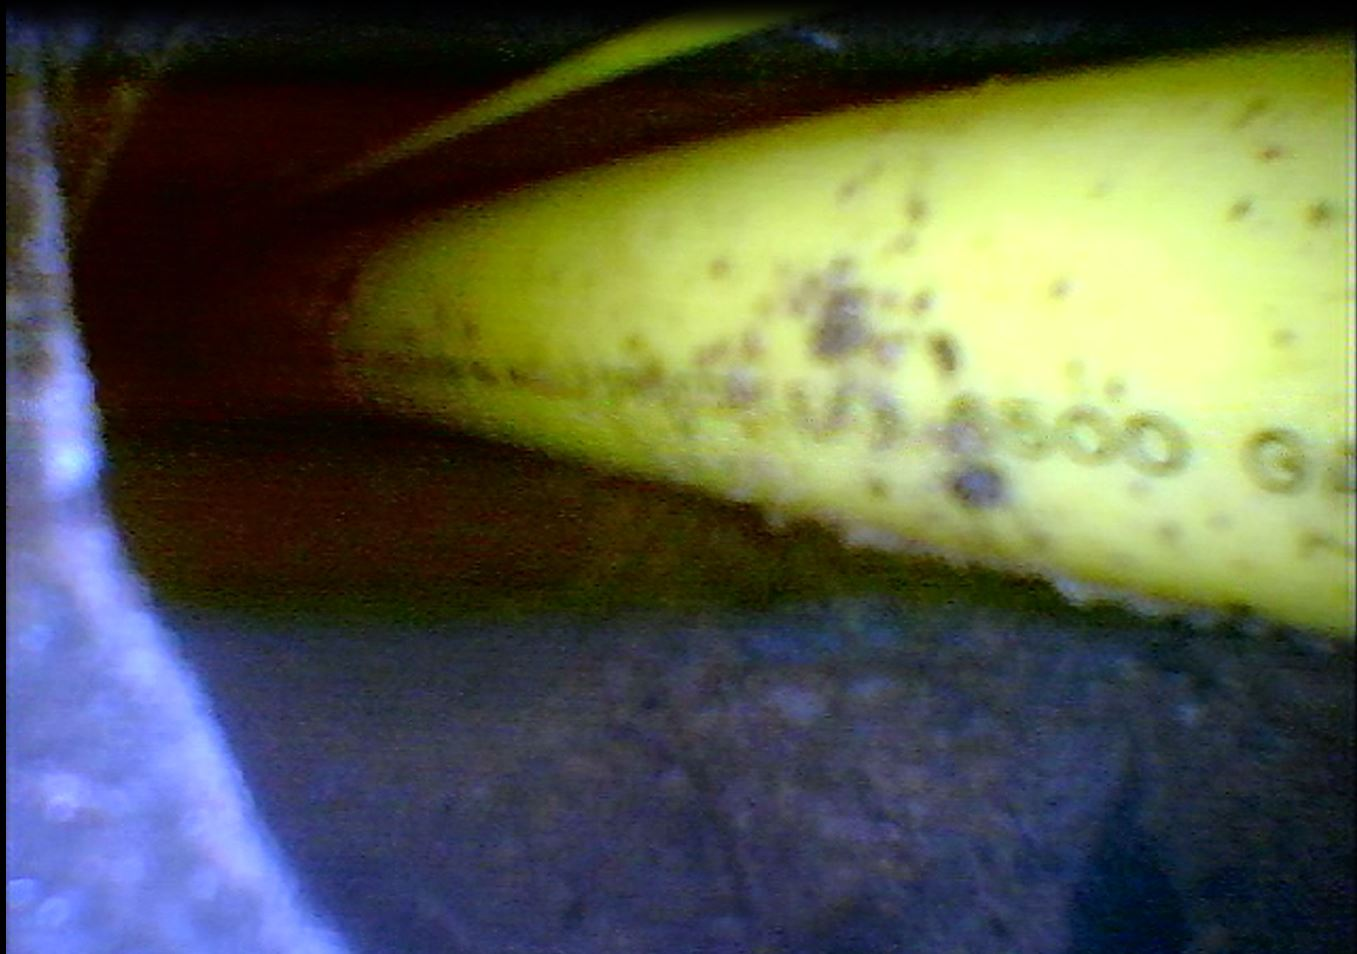cb: (227, 38, 1349, 668), (236, 14, 857, 185)
